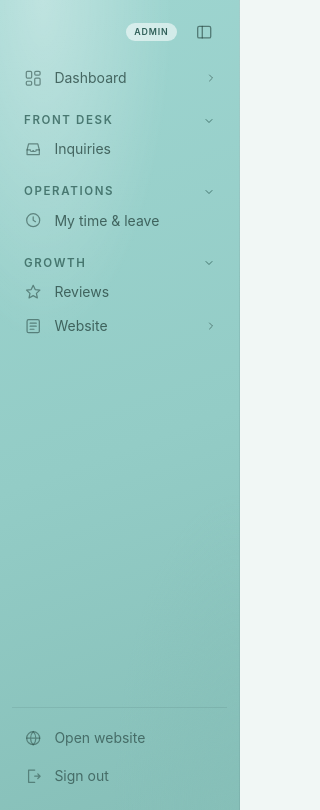
Test: AdminNav › shows Dashboard always, and Media/Content/Brands & blog/Inquiries for a user with CMS_MANAGE only
expect the link "Dashboard" is shown: met, box [24,69,127,87]
expect the link "Inquiries" is shown: met, box [24,140,111,158]
Click the button named "Show: Brands & blog, Media" at (211, 326), box [199,314,223,338]
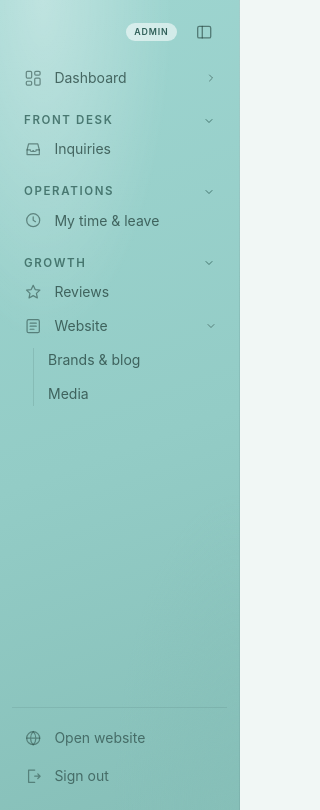
expect the link "Media" is shown: met, box [48,385,89,402]
expect the link "Brands & blog" is shown: met, box [48,351,140,368]
